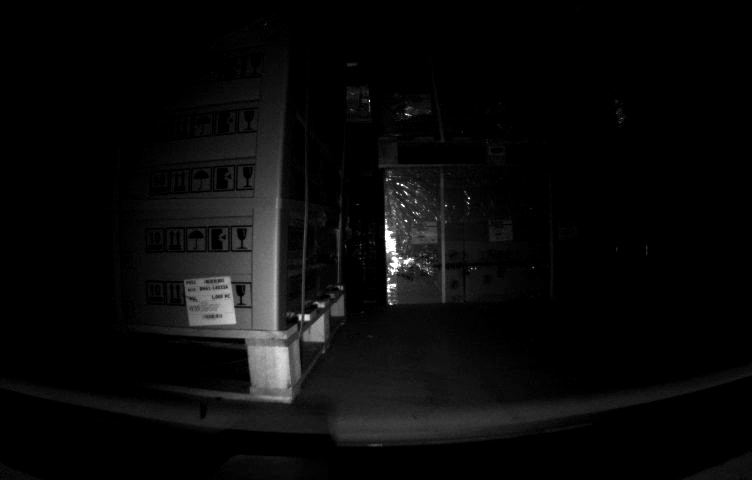True Barcode: (184, 274, 236, 324)
